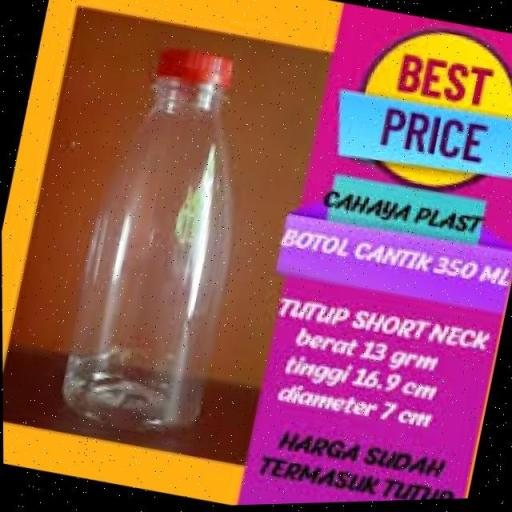plastic: (61, 51, 232, 435)
